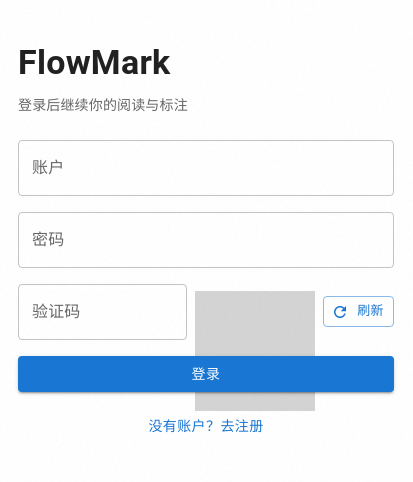
Test: LoginPage › shows backend error and refreshes captcha on login failure
Type "demo" into the field labelled "账户" at [206, 168], box [18,140,394,196]
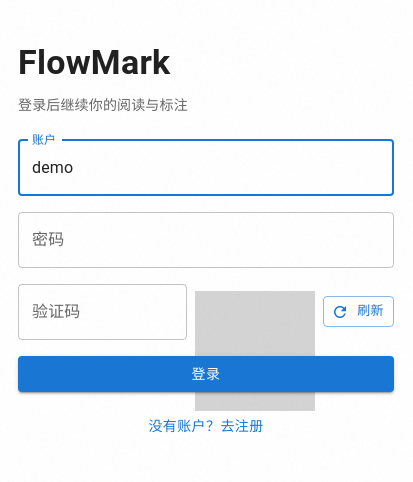
Type "bad-pass" into the password field labelled "密码" at [206, 240], box [18,212,394,268]
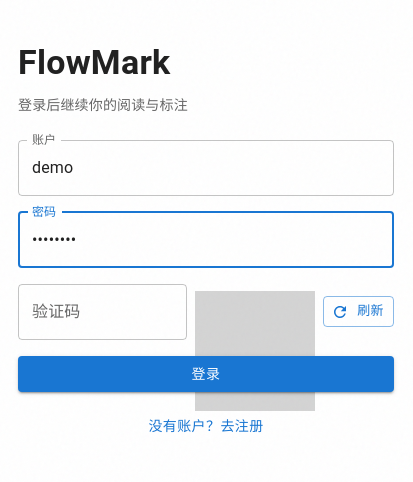
Type "a1b2" into the field labelled "验证码" at [103, 312], box [18,284,187,340]
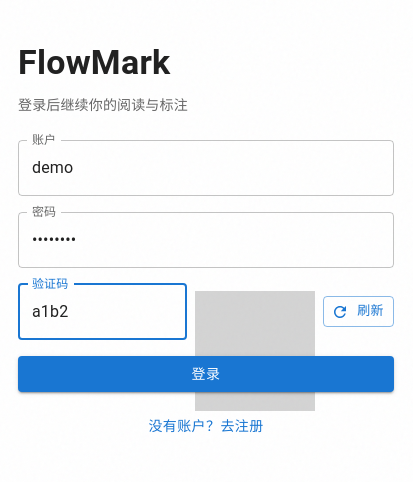
Click the button "登录" at [206, 374], box [18,356,394,392]
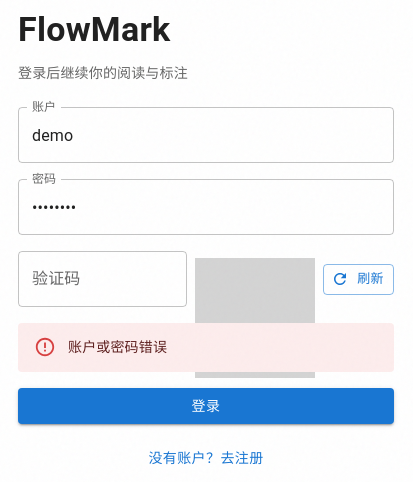
Expected: the text "账户或密码错误" is shown, [68,340,167,356]
